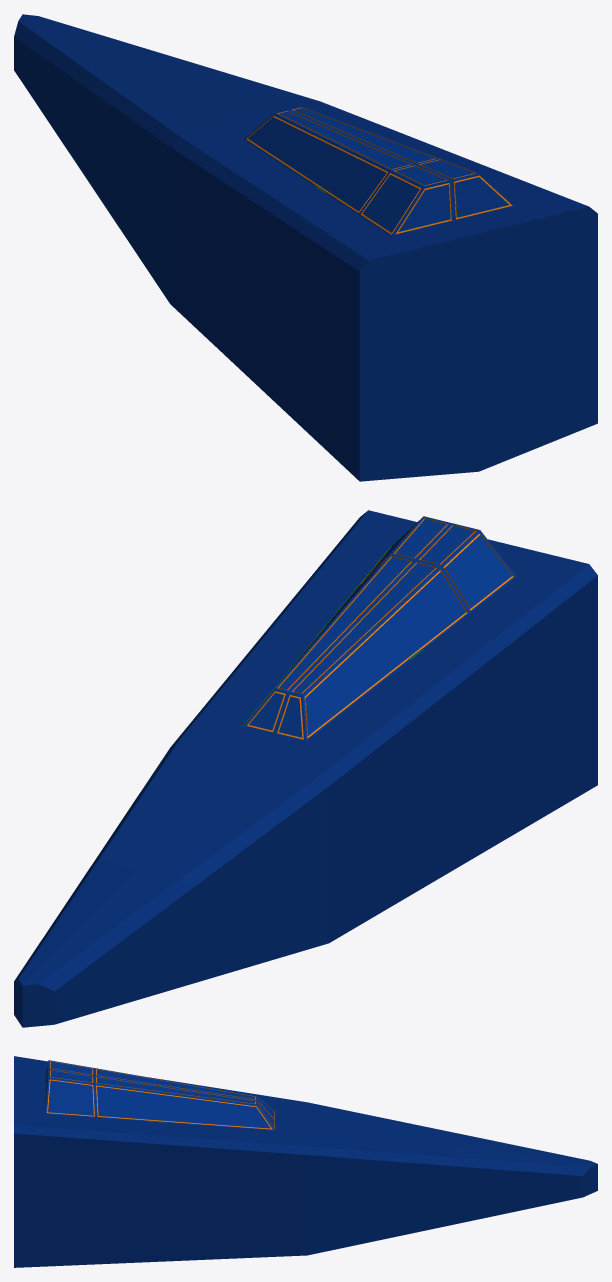
The model's file is vb_cockpit.fbx.
3 renders of one model, top to bottom at view 1: azimuth 30°, elevation 25°; view 2: azimuth 150°, elevation 25°; view 3: azimuth 270°, elevation 25°, orthographic. The views are drawn at different scales.
Visible parts, largest first — view 1: cockpit_ship_hull, cockpit_ship_glass; view 2: cockpit_ship_hull, cockpit_ship_glass; view 3: cockpit_ship_hull, cockpit_ship_glass.
Boxes of the visible parts, box(x1,y1,x2,y2) form: cockpit_ship_hull: box(14, 14, 597, 481); cockpit_ship_glass: box(243, 106, 515, 236); cockpit_ship_hull: box(14, 510, 597, 1027); cockpit_ship_glass: box(243, 516, 516, 741); cockpit_ship_hull: box(14, 1056, 597, 1267); cockpit_ship_glass: box(45, 1060, 275, 1130).
Bounding box in the file's own units: 3 × 3.27 × 9.95.
